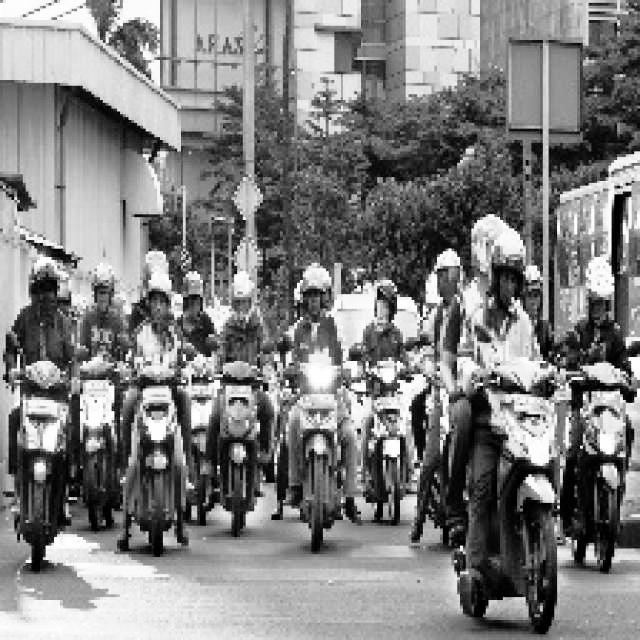Bike: (494, 354, 574, 640), (571, 349, 640, 565), (122, 336, 184, 561), (291, 341, 355, 557), (10, 363, 70, 566), (214, 336, 268, 544), (360, 345, 410, 531), (78, 336, 120, 526), (184, 341, 224, 539)
